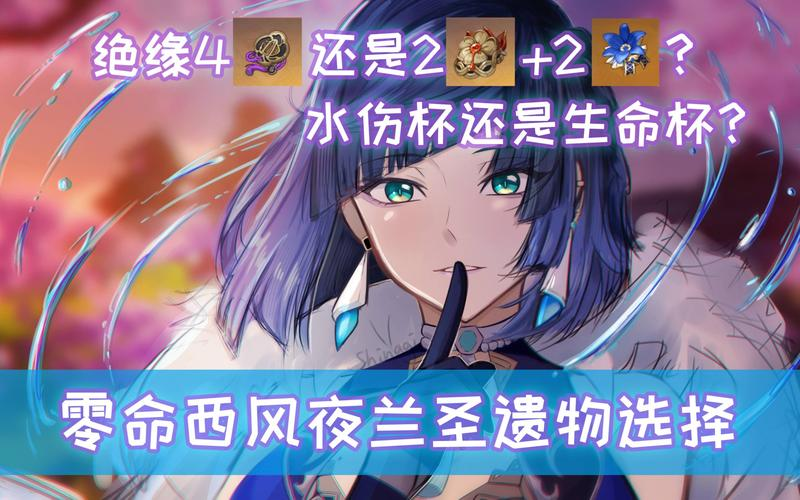夜兰: (120, 4, 791, 500)
